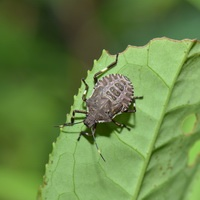insect: (59, 54, 143, 141)
